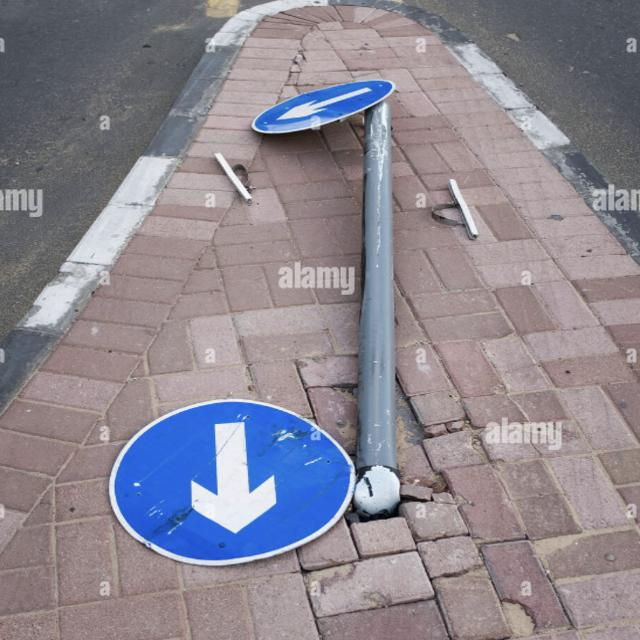Inclined Pole: (106, 70, 406, 567)
